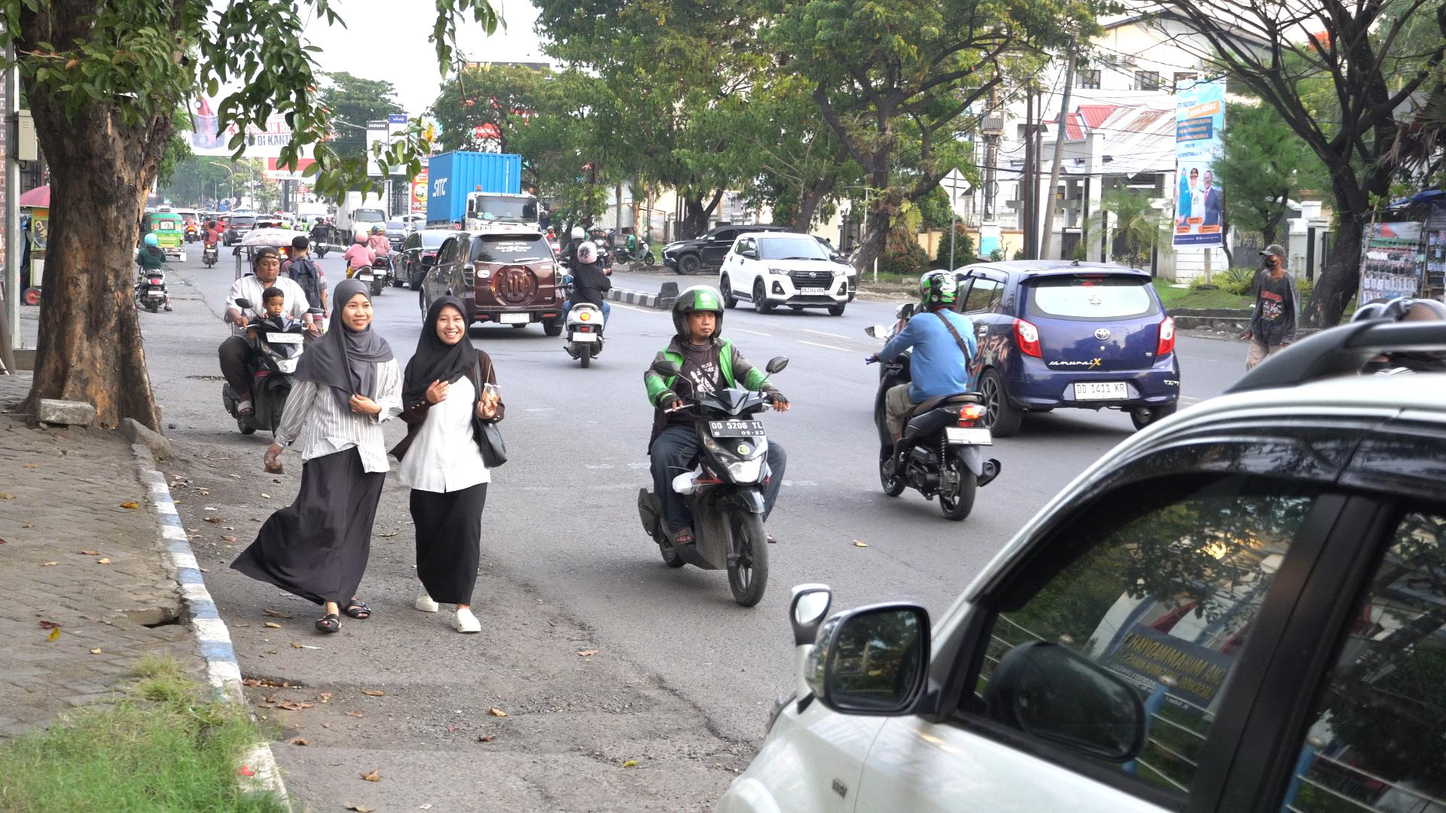number-plate: (708, 418, 767, 442)
